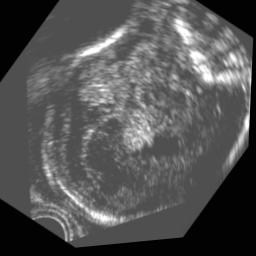abnormal: (4, 0, 256, 255)
